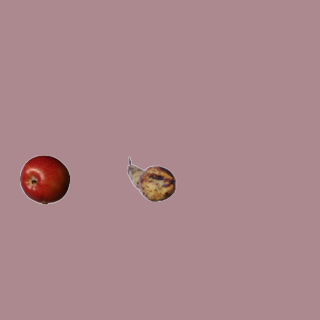Apple Braeburn: (19, 154, 69, 204)
Pear Abate: (126, 154, 176, 204)
